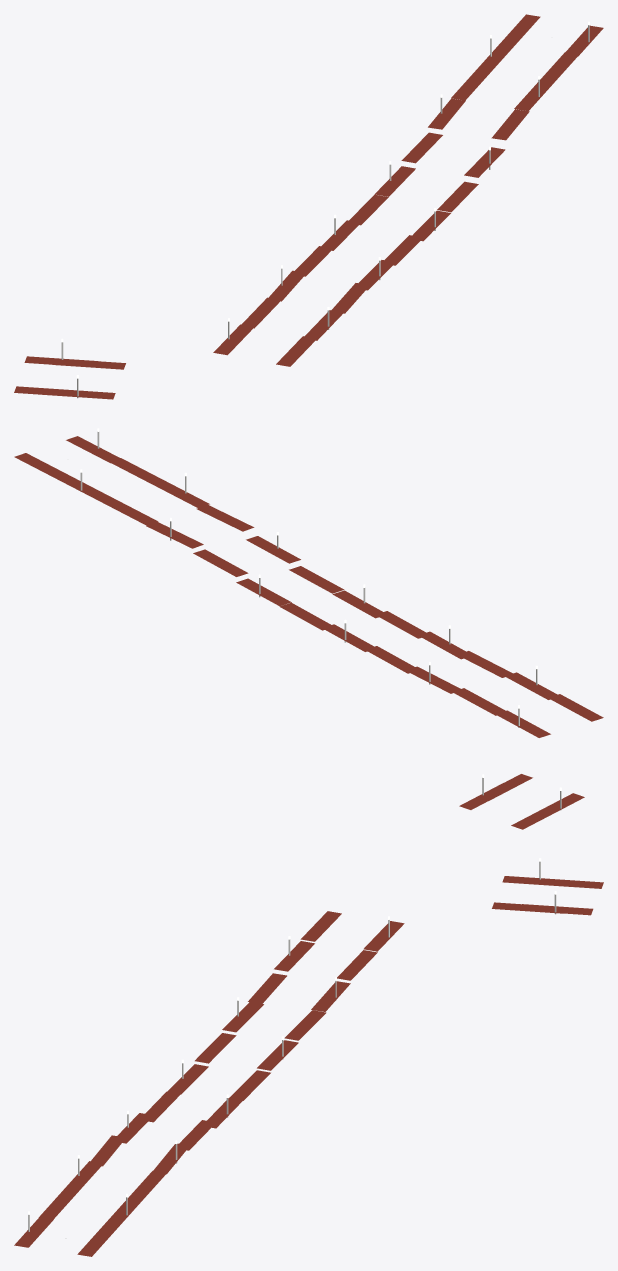
The model's file is noord_brick.glb.
The picture shows the model from 3 angles, top to bottom: view 1: azimuth 90°, elevation 25°; view 2: azimuth 150°, elevation 25°; view 3: azimuth 270°, elevation 25°; orthographic projection.
Parts seen in each view (by area): view 1: noord_brick_lod0; view 2: noord_brick_lod0; view 3: noord_brick_lod0.
Part boxes in pixels (bbox=[...]): noord_brick_lod0: bbox=[14, 14, 603, 399]; noord_brick_lod0: bbox=[14, 428, 603, 829]; noord_brick_lod0: bbox=[14, 858, 603, 1256].
Size of what is drawn, in the model's own units: 150 by 7.65 by 97.79.
